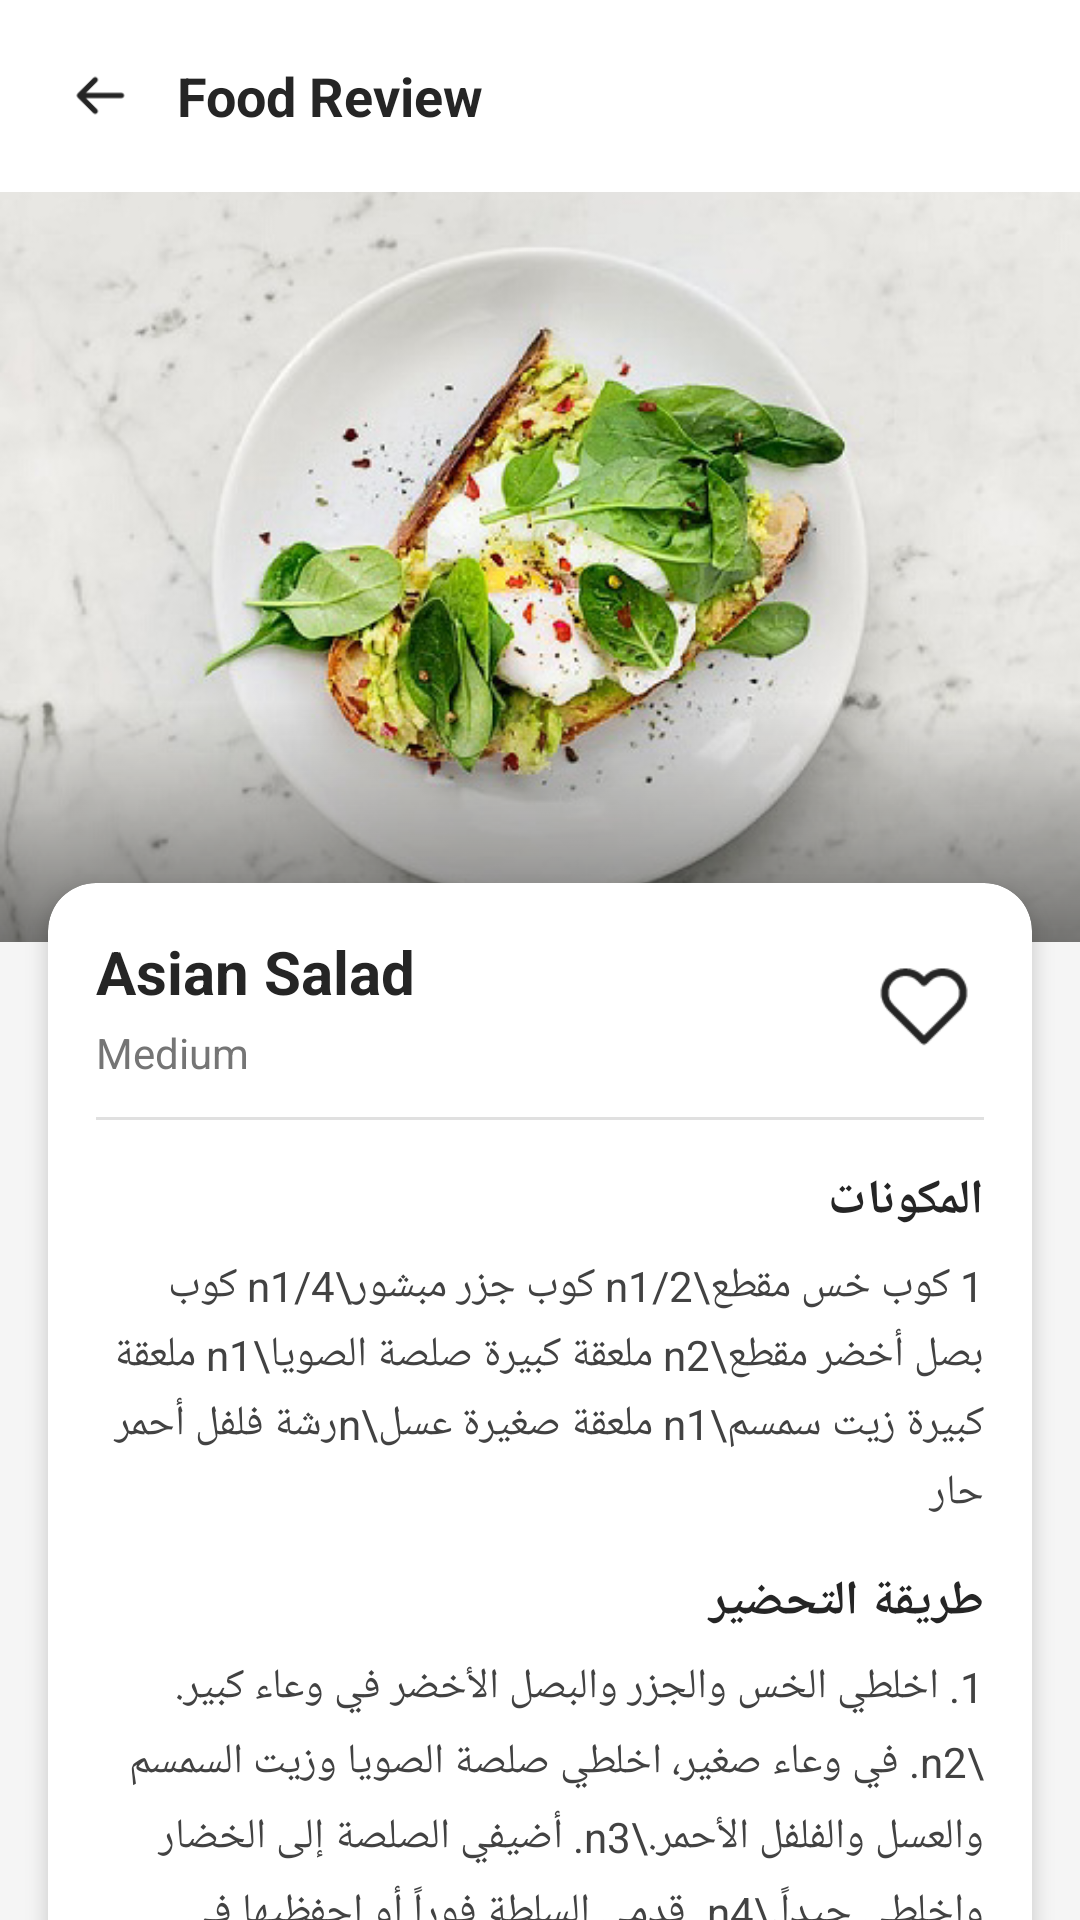

Where to tap for icons on this 1080px x 1920px app screen, as point (x, y):
Like Button: point (924, 1006)
